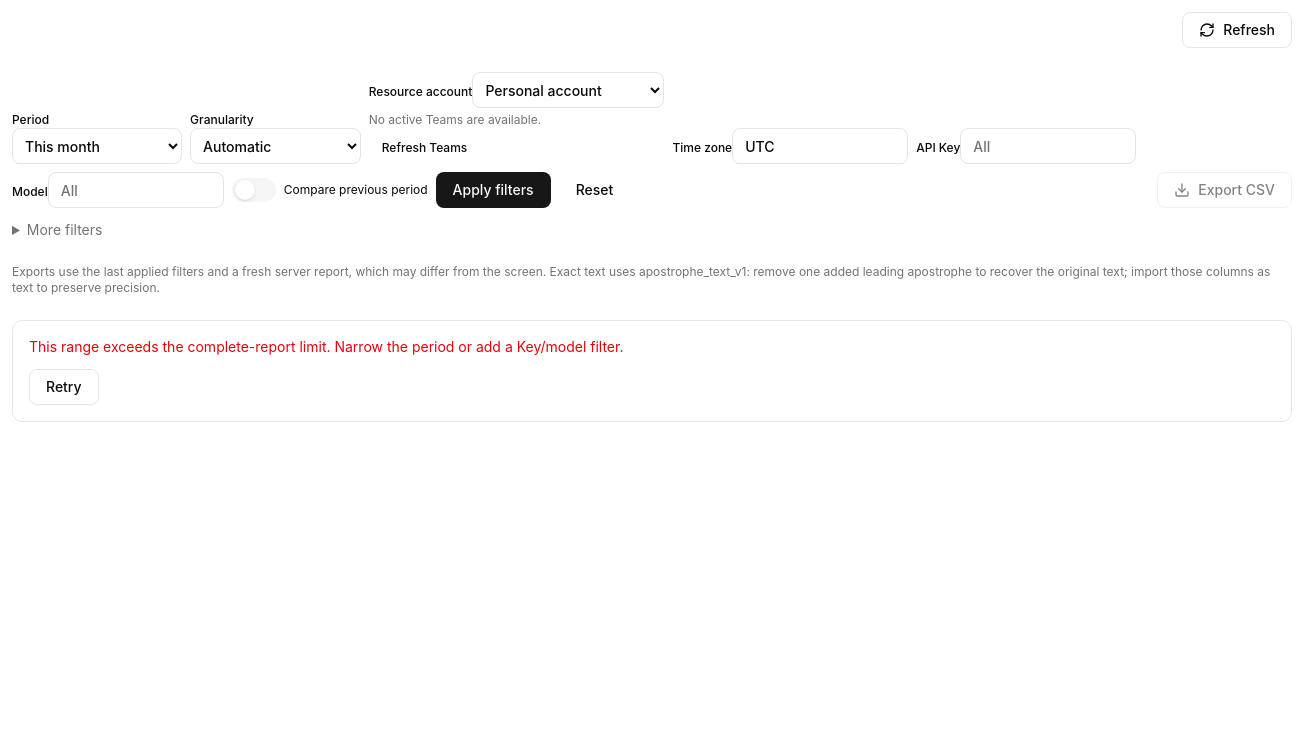
Test: usage reports › handles complete-report overflow and recovers without fabricating totals
Click the button "Retry" at point(64, 387), box [29,369,99,405]
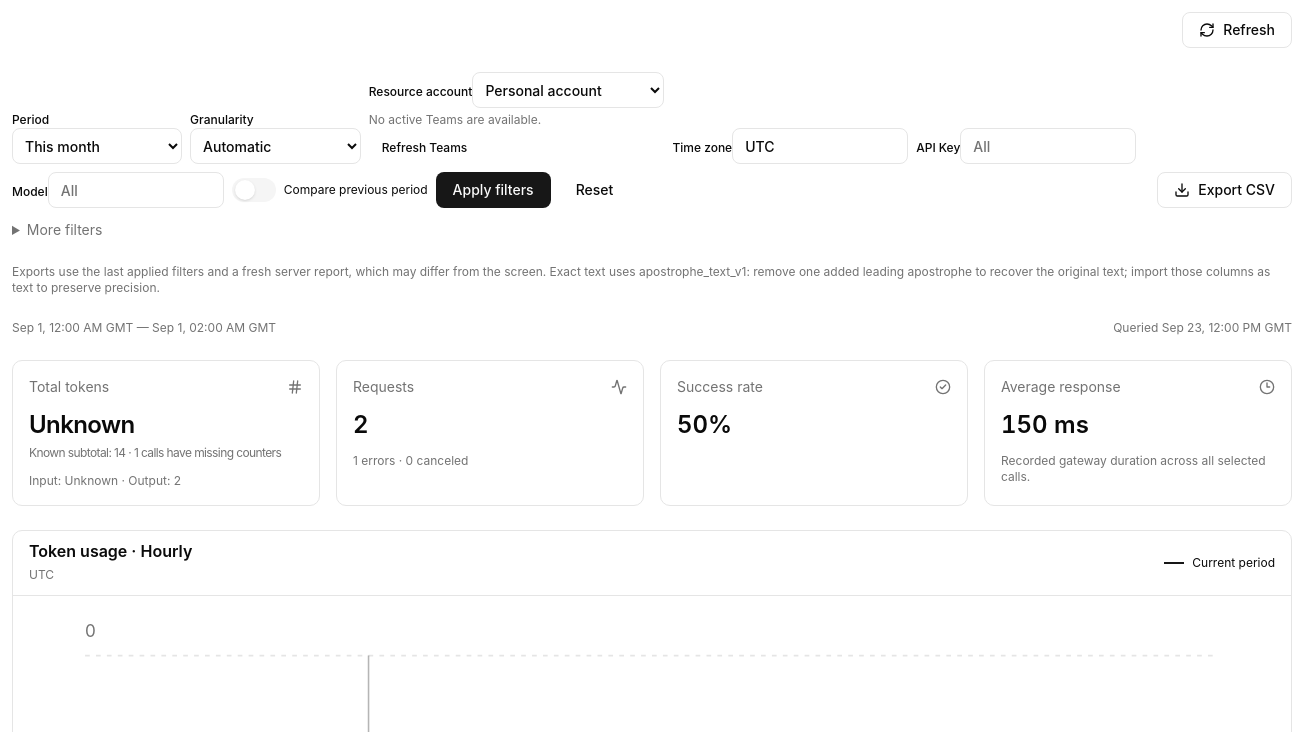
Check: the text "Known subtotal: 14" is shown, box [29,445,126,460]
Click the button "Refresh" at point(1237, 30), box [1182,12,1292,48]
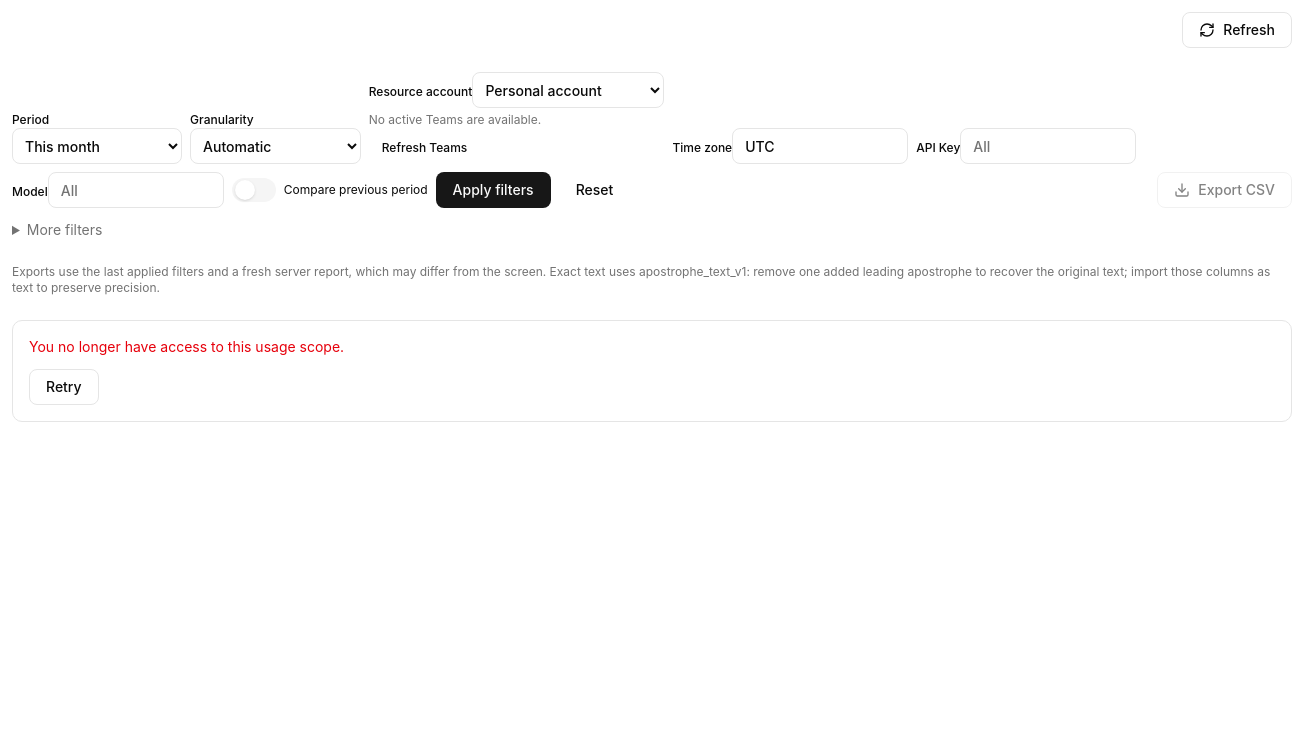
Check: the text "no longer have access" is shown, box [29,338,344,355]
